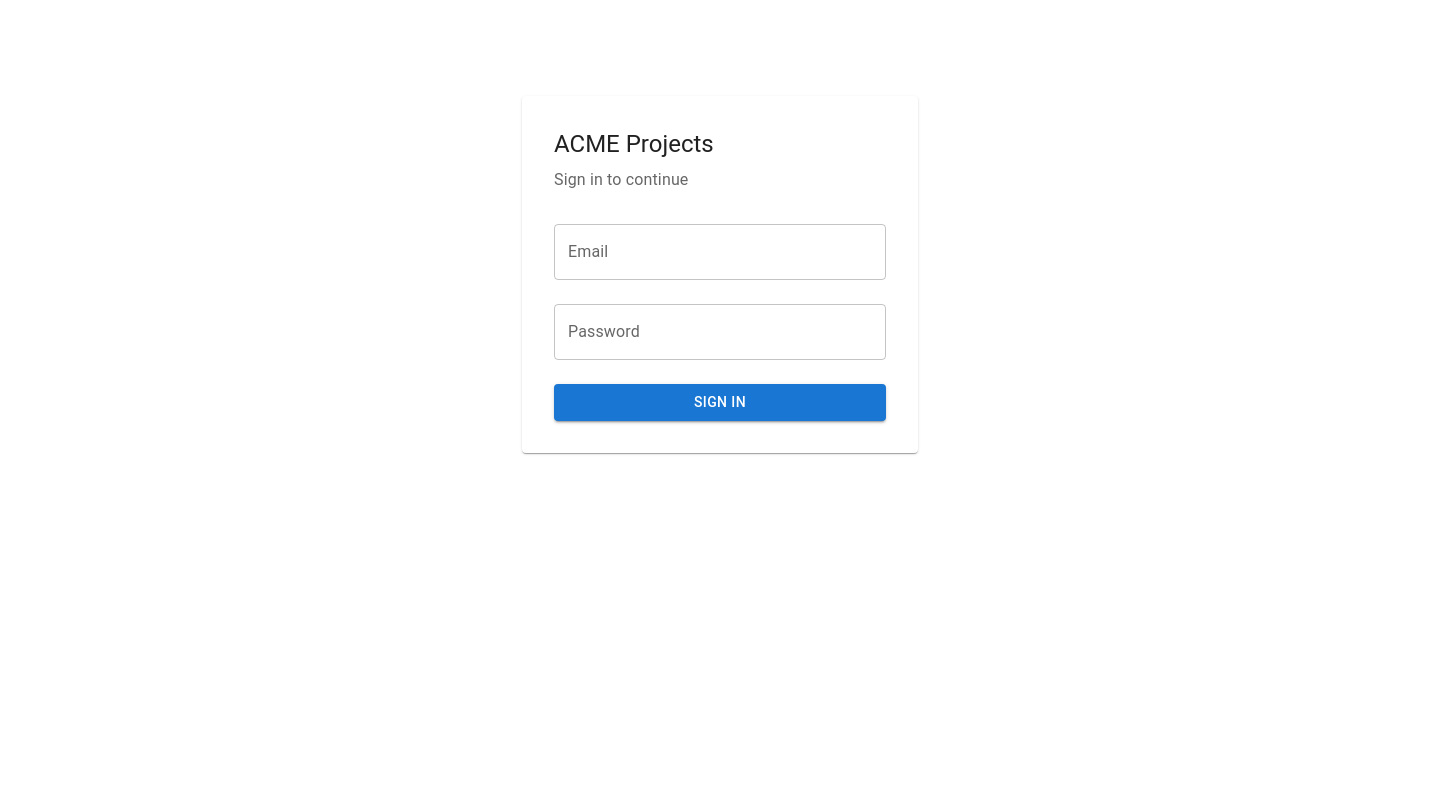
signing in › sends visitors to sign in, then back to the page they wanted
In the field labelled "Email": (720, 252) [554,224,886,280], type "admin@example.com"
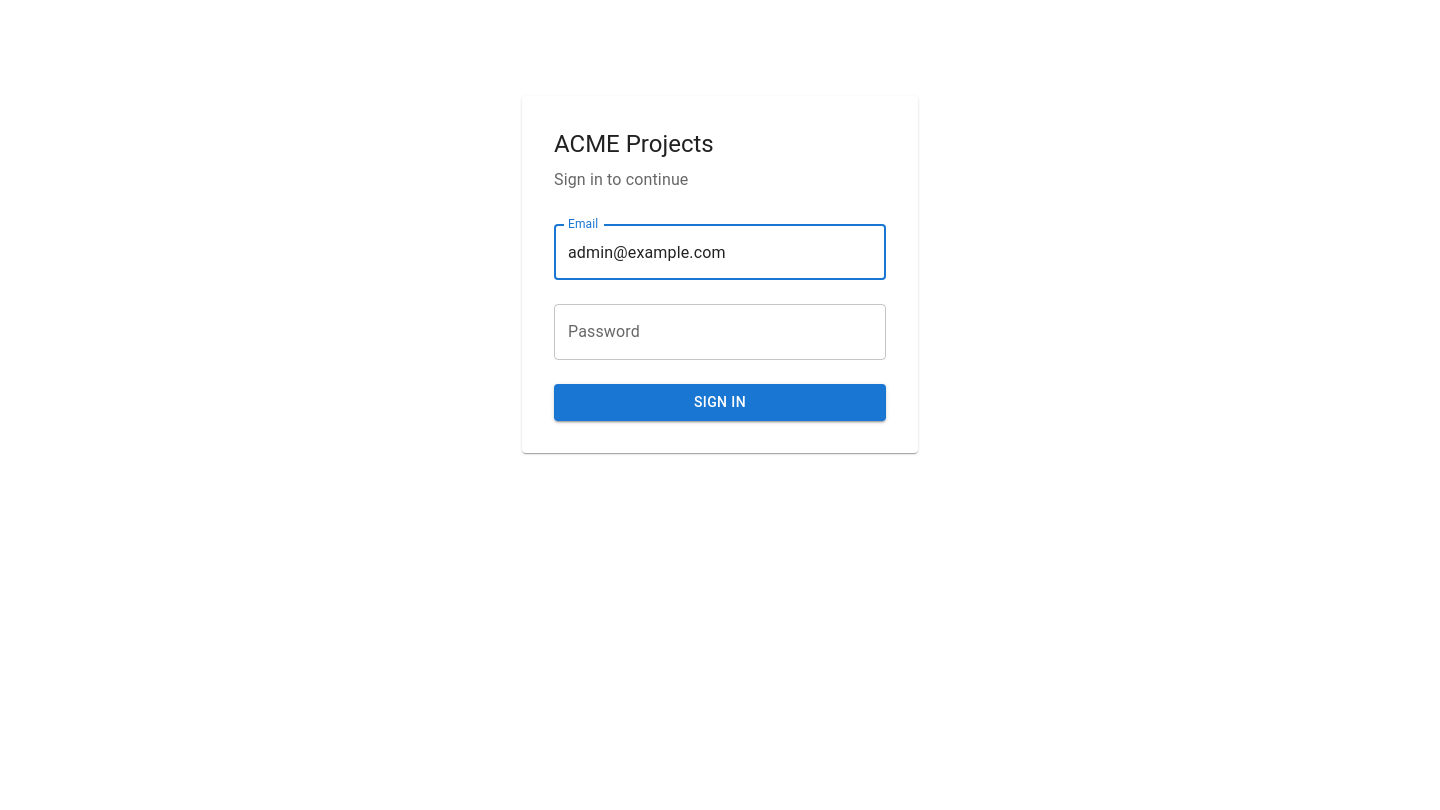
In the password field labelled "Password": (720, 332) [554,304,886,360], type "secret"
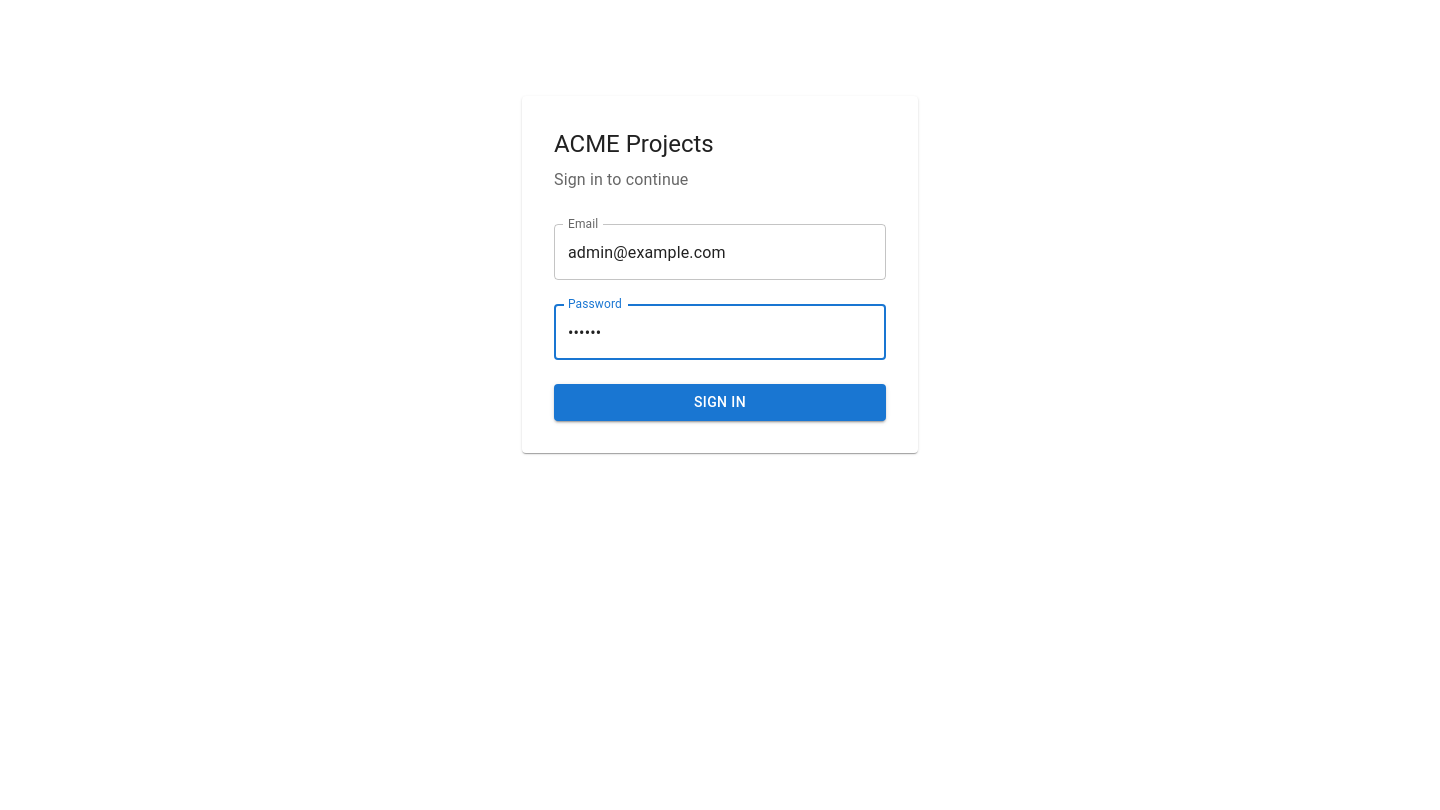
Click the button "Sign in": (720, 403) [554,384,886,421]
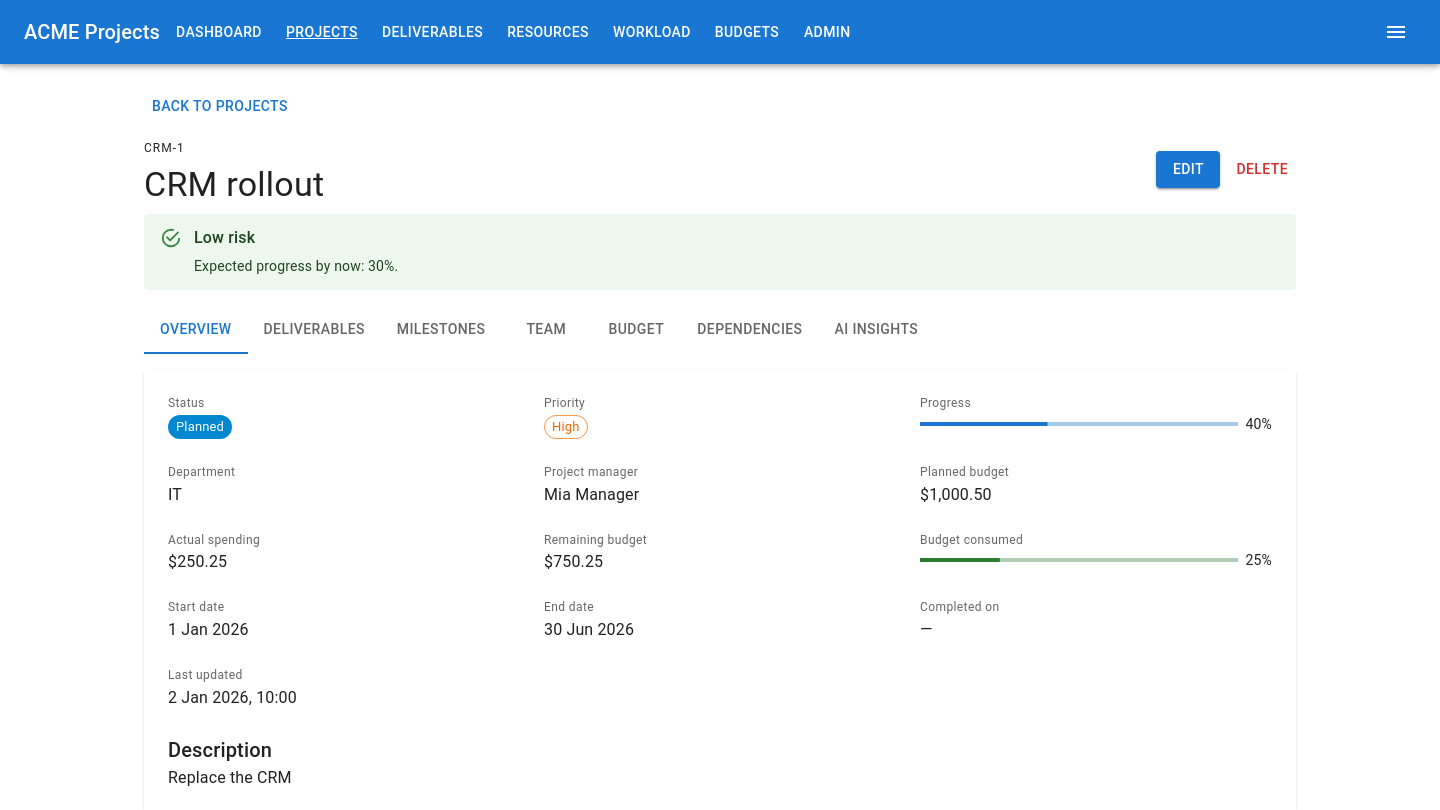
Now the heading "CRM rollout" is shown, box [144,164,324,206]
